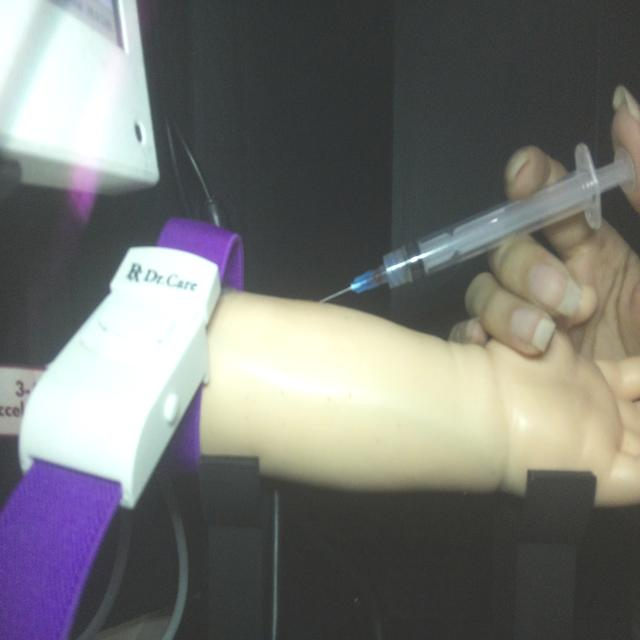16 degrees: (318, 138, 636, 306)
